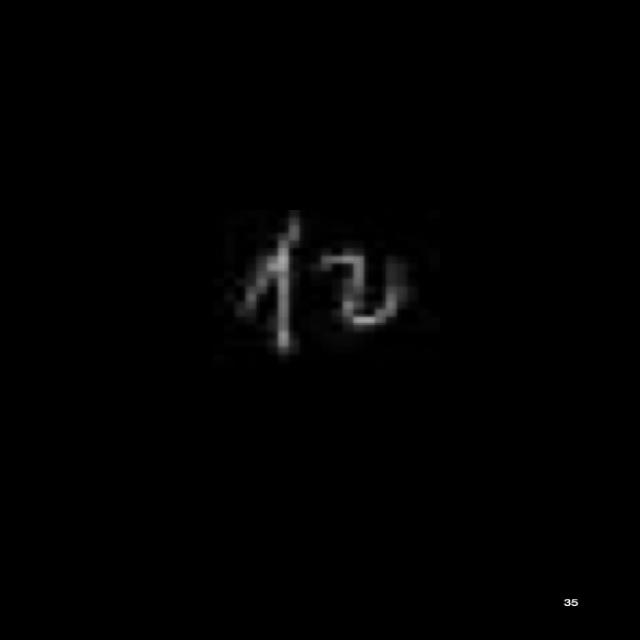100000 -a hundred thousand-: (221, 209, 405, 347)
